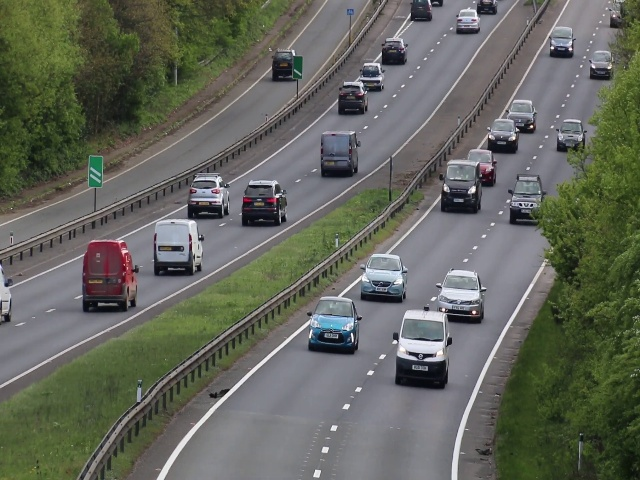car: (395, 310, 450, 390), (78, 240, 139, 312), (307, 295, 359, 353), (151, 220, 204, 274), (435, 266, 486, 322), (361, 252, 407, 302), (241, 180, 288, 225), (444, 160, 482, 213), (317, 131, 361, 176), (188, 174, 229, 218), (510, 175, 545, 226), (337, 81, 369, 116), (486, 119, 519, 150), (556, 116, 585, 149), (270, 48, 298, 80), (550, 21, 573, 59), (380, 36, 408, 67), (589, 45, 612, 81), (507, 95, 535, 122), (358, 62, 383, 90), (475, 150, 498, 180), (455, 7, 480, 34), (409, 1, 434, 20)
